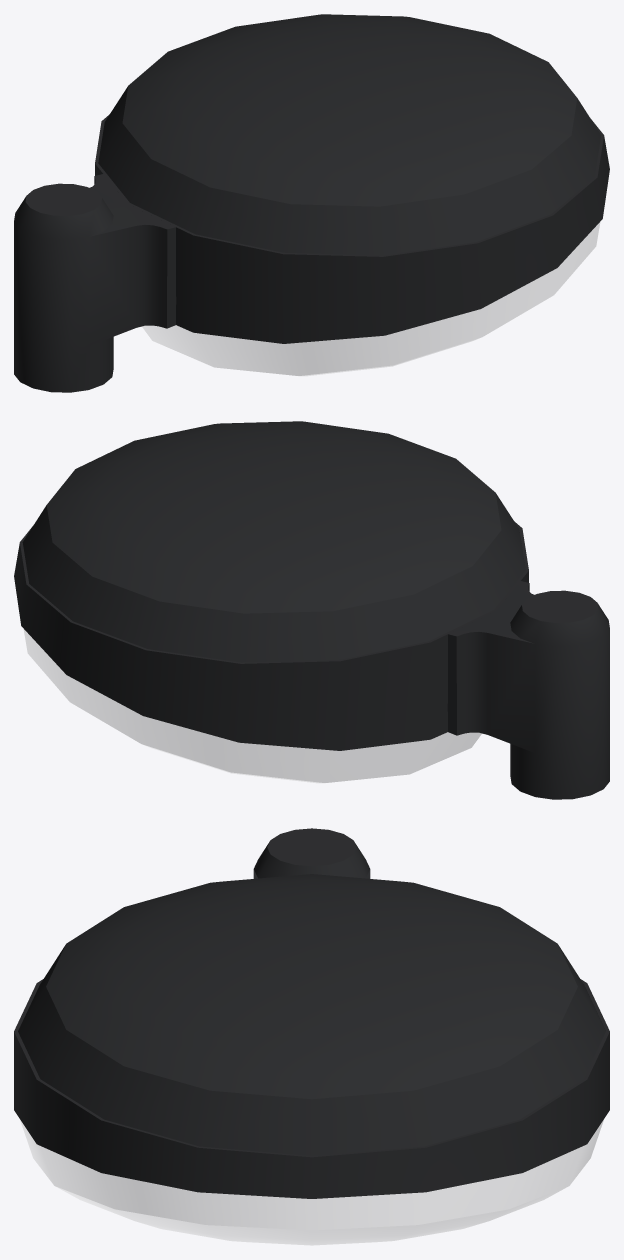
The picture shows the model from 3 angles, top to bottom: view 1: azimuth 30°, elevation 25°; view 2: azimuth 150°, elevation 25°; view 3: azimuth 270°, elevation 25°; orthographic projection. The views are drawn at different scales.
Visible parts, largest first — view 1: Deckel oben, BezierCurve.001, Cylinder, Glas unten; view 2: Deckel oben, BezierCurve.001, Cylinder, Glas unten; view 3: Deckel oben, BezierCurve.001, Glas unten, Cylinder.
Boxes of the visible parts, x1,y1,x2,y2 form: Deckel oben: [98, 14, 601, 255]; BezierCurve.001: [95, 114, 609, 343]; Cylinder: [14, 174, 176, 392]; Glas unten: [142, 223, 599, 375]; Deckel oben: [22, 421, 525, 662]; BezierCurve.001: [14, 521, 528, 750]; Cylinder: [447, 581, 609, 799]; Glas unten: [24, 630, 481, 782]; Deckel oben: [18, 874, 605, 1155]; BezierCurve.001: [14, 979, 609, 1198]; Glas unten: [20, 1120, 603, 1245]; Cylinder: [253, 828, 370, 878].
Bounding box in the file's own units: 0.5765 × 0.233 × 0.4598.
Materials: 3 (2 with a texture image).
